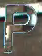Parking: (3, 0, 38, 55)
